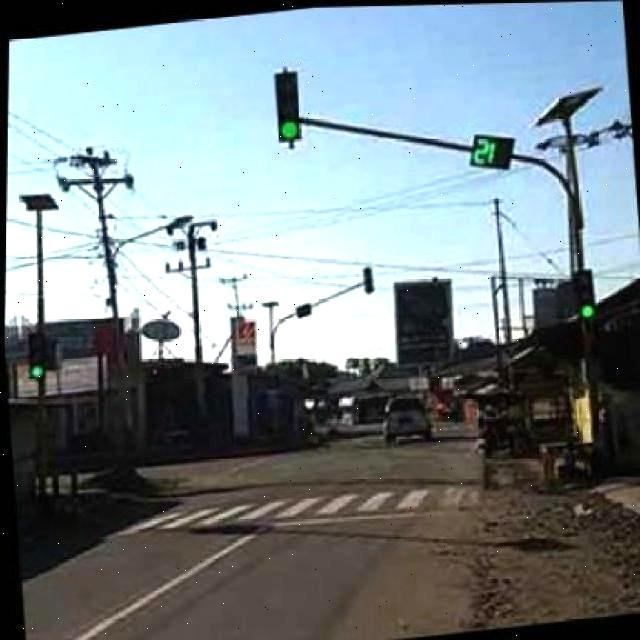Green: (260, 59, 315, 168), (463, 113, 525, 200), (550, 258, 612, 342), (16, 316, 65, 414)
